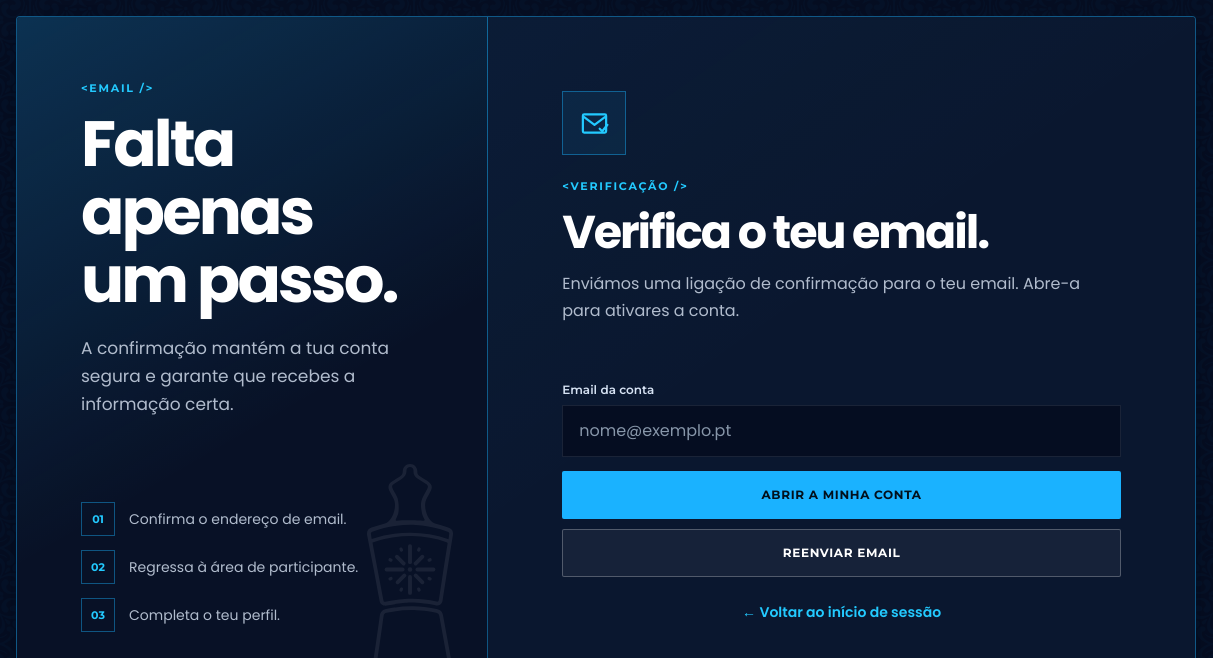
Test: Verificar email (reenvio): estados comuns › rede em baixo: diz-o, põe o foco no aviso e não apaga o que se escreveu
The image size is (1213, 658).
In the field labelled "Email da conta": x=842, y=431 left=562, top=405, right=1121, bottom=457, type "ana@example.com"
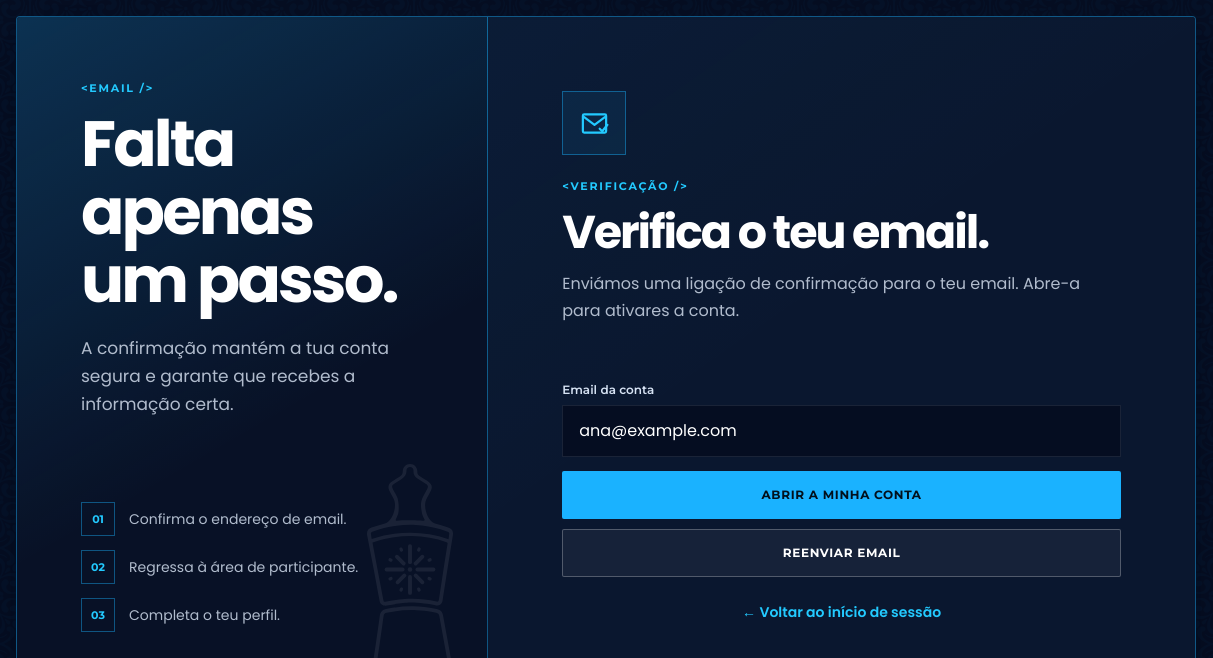
Click the button "Reenviar email": x=842, y=553 left=562, top=529, right=1121, bottom=577
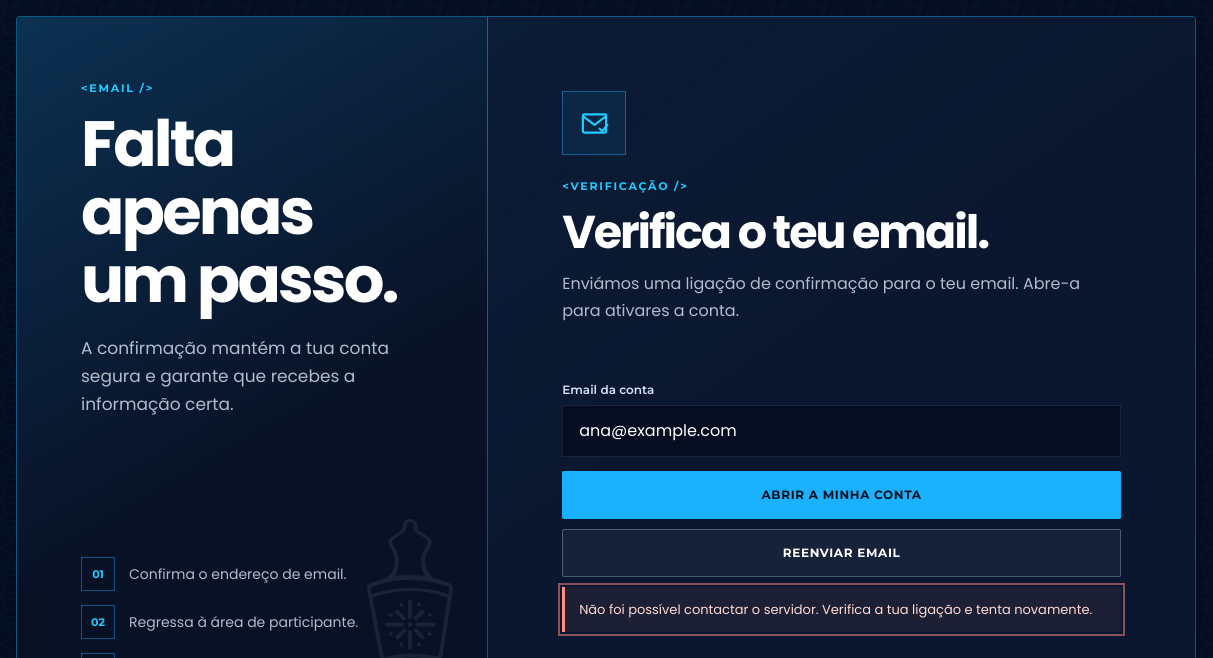
Check: the 2nd message shows "Não foi possível contactar o servidor", box left=579, top=600, right=1092, bottom=619
